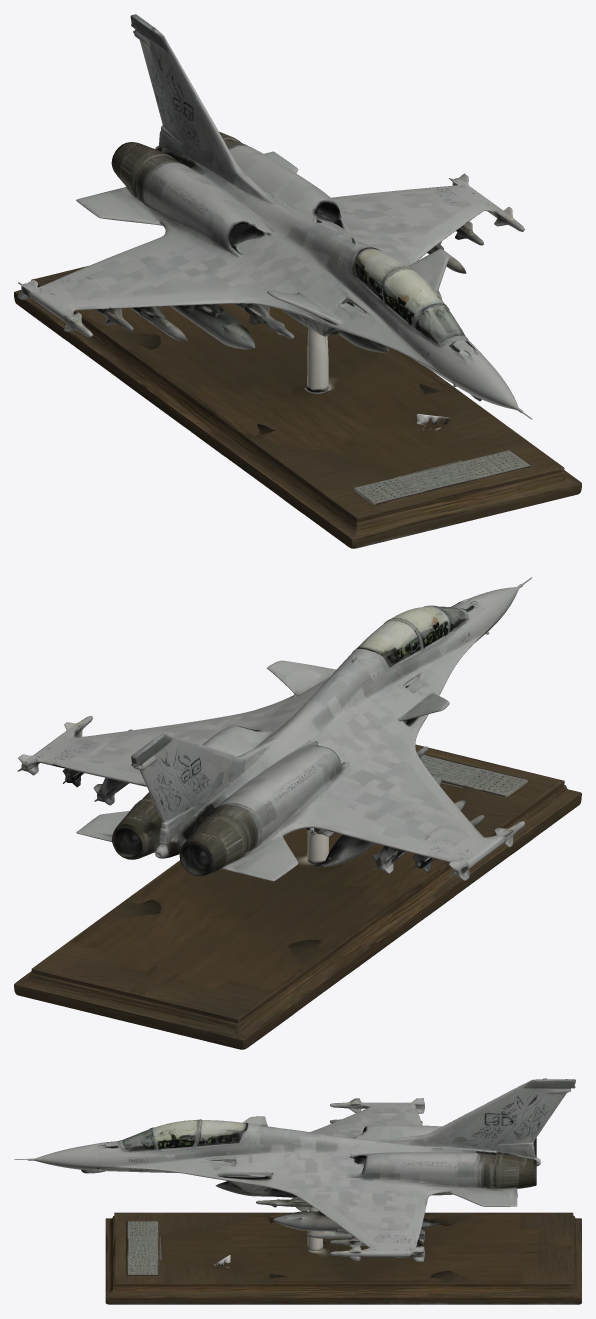
Rendered from artemis g-6 interceptor.glb.
3 views of the same model, one above another, from view 1: azimuth 30°, elevation 25°; view 2: azimuth 150°, elevation 25°; view 3: azimuth 270°, elevation 25° (orthographic). The views are drawn at different scales.
Parts seen in each view (by area): view 1: node_0; view 2: node_0; view 3: node_0.
Part boxes in pixels (x1,y1,x2,y2): node_0: (14,14,581,548); node_0: (14,577,581,1049); node_0: (14,1078,581,1304).
Size of the model in its own units: 0.6932 by 0.3925 by 1.08.
Materials: 1 (1 with a texture image).
